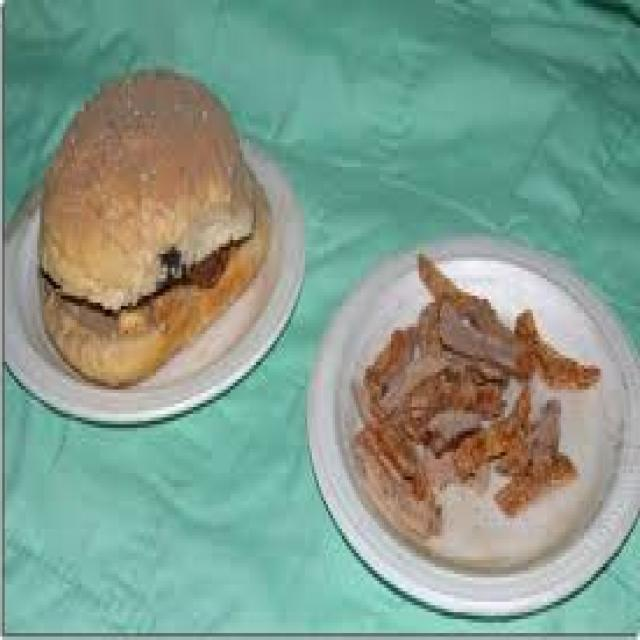Burger: (35, 49, 275, 396)
French Fries: (354, 244, 607, 546)
